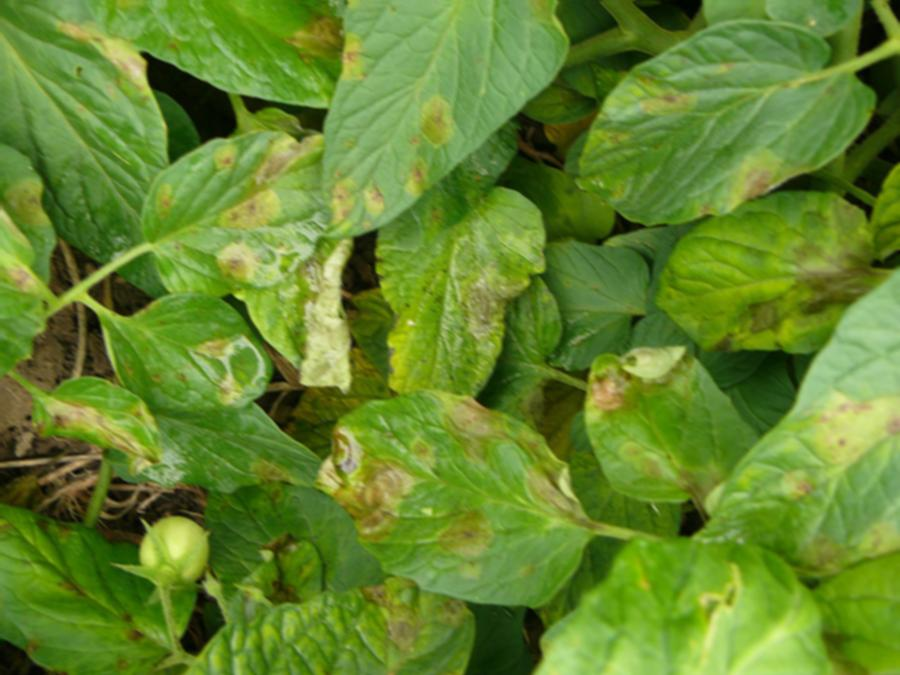Tomato leaf late blight: (295, 0, 633, 284), (570, 19, 876, 241), (320, 373, 592, 621), (340, 153, 532, 415), (644, 178, 900, 367), (121, 115, 355, 309), (572, 305, 759, 541), (83, 279, 278, 419), (26, 366, 177, 488)
